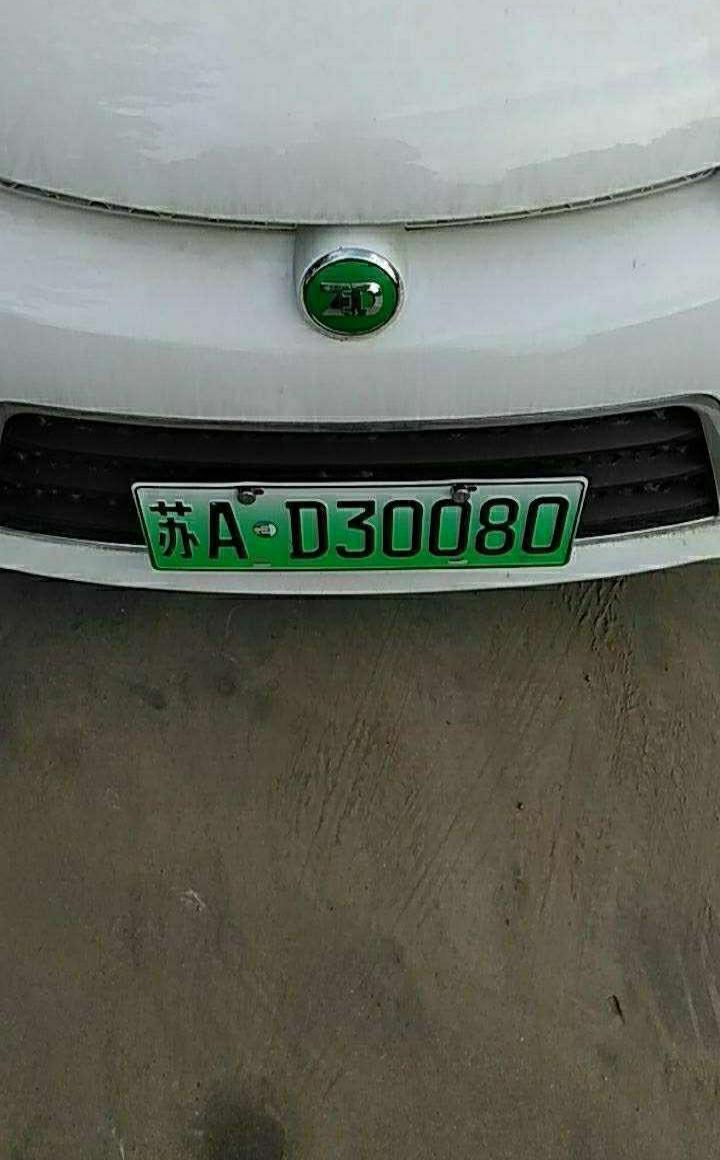car_id: (139, 474, 581, 569)
